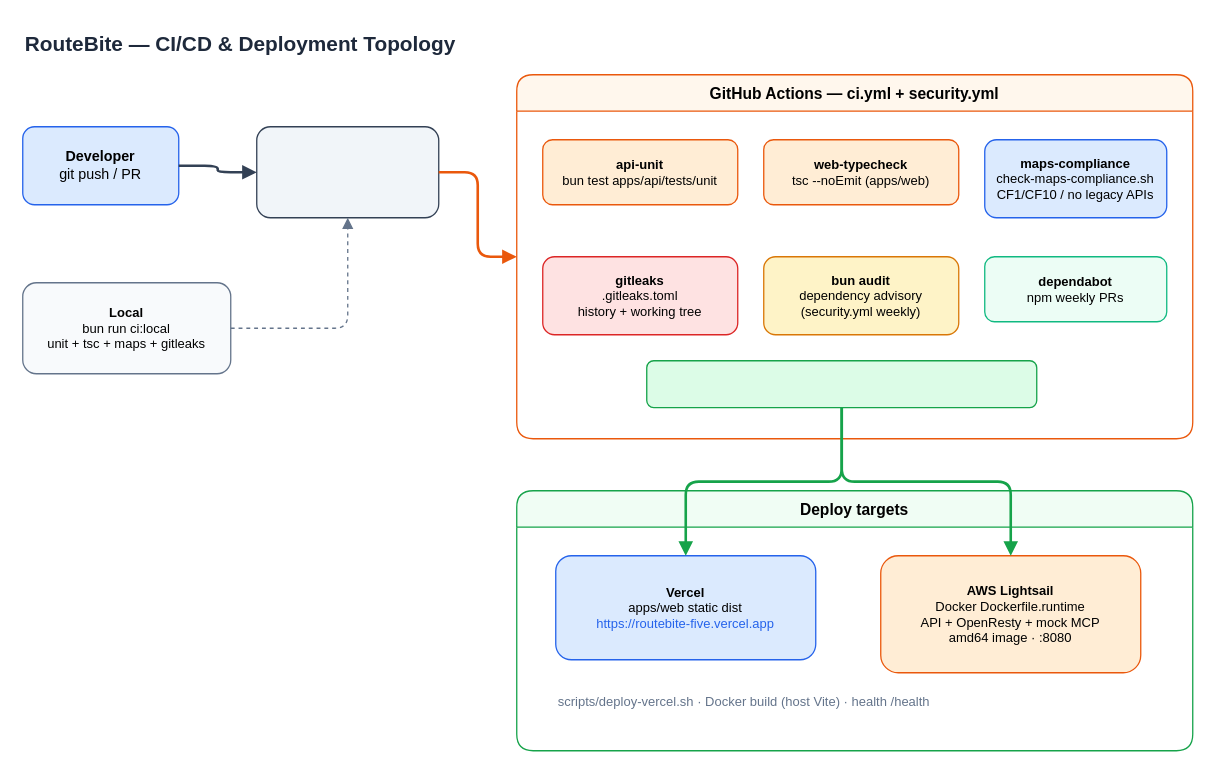
Some shapes in this 1216 by 774 pixel diagram are drawn without their labels. The centre of each missing label's shape, as x and y in pixels:
All required checks green → merge / deploy: the point at 841,383
GitHub guglxni/routebite main + PRs: the point at 347,171
